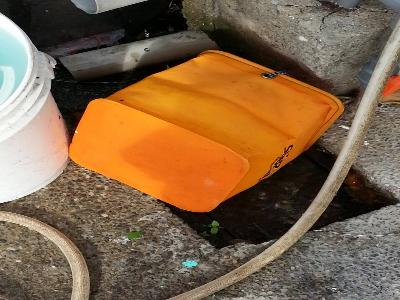box: (64, 45, 345, 215)
